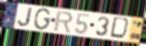3: (95, 16, 110, 37)
5: (74, 12, 91, 35)
D: (109, 16, 132, 41)
G: (32, 8, 52, 31)
J: (17, 7, 34, 28)
R: (53, 10, 74, 33)
